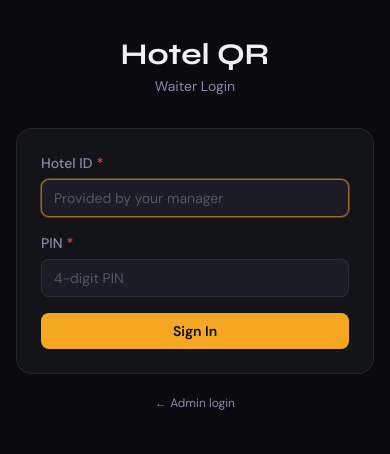
Test: PF07 - Waiter App › PIN login with wrong PIN shows error
Type "hotel-id-1" into the field with placeholder "Provided by your manager".
click(195, 198); type("hotel-id-1")  # box [41,179,349,217]
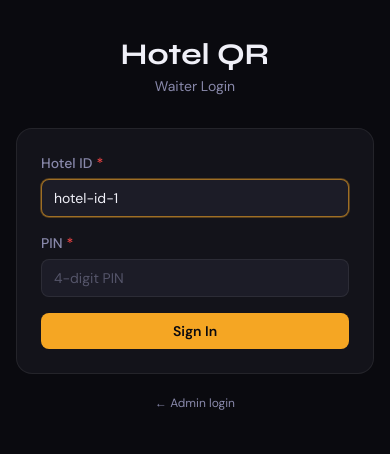
Type "0000" into the password field with placeholder "4-digit PIN".
click(195, 278); type("0000")  # box [41,259,349,297]
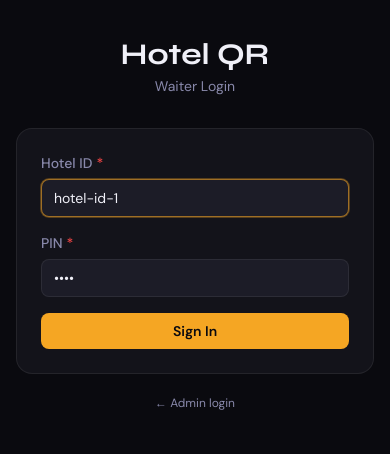
Submit the form "Hotel ID* PIN* Sign In", box [16,128,374,374]
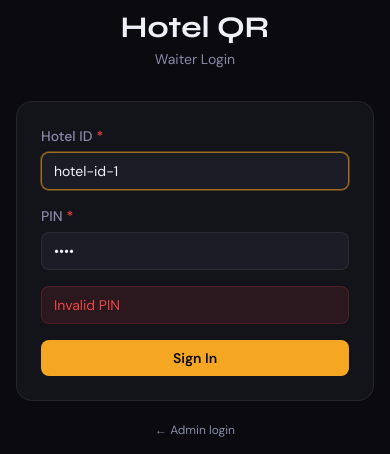
Now the text "Invalid PIN" is shown, box [41,286,349,324]
